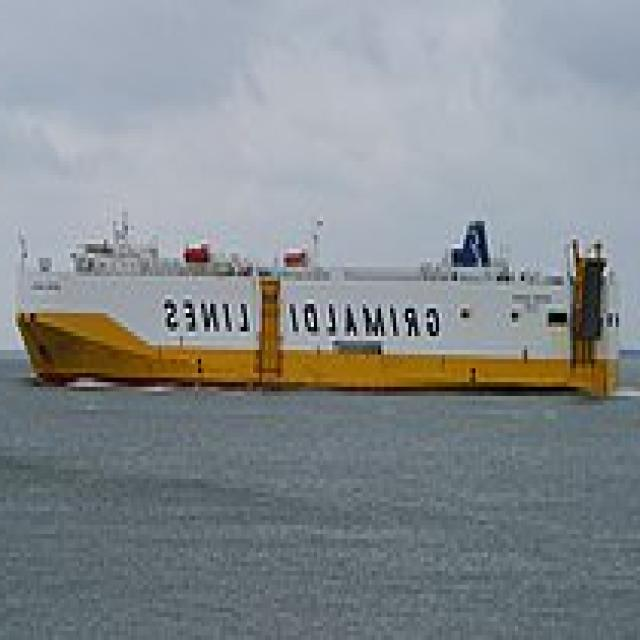Carrier: (15, 202, 628, 400)
